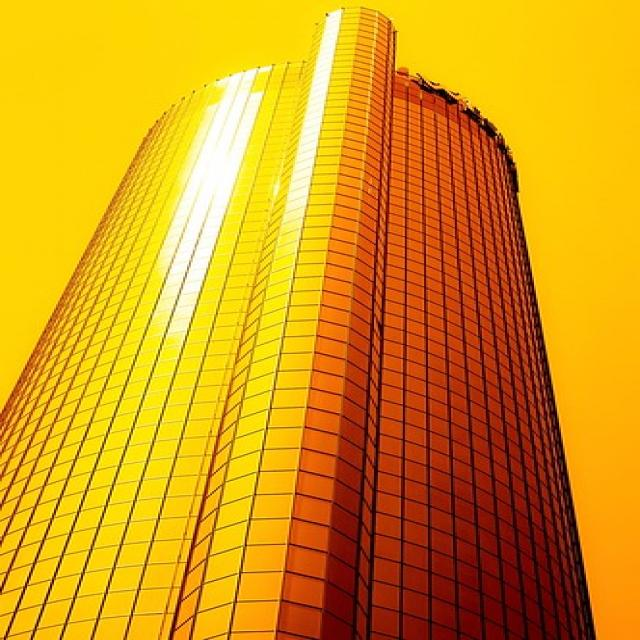Normal_building: (5, 1, 608, 640)
